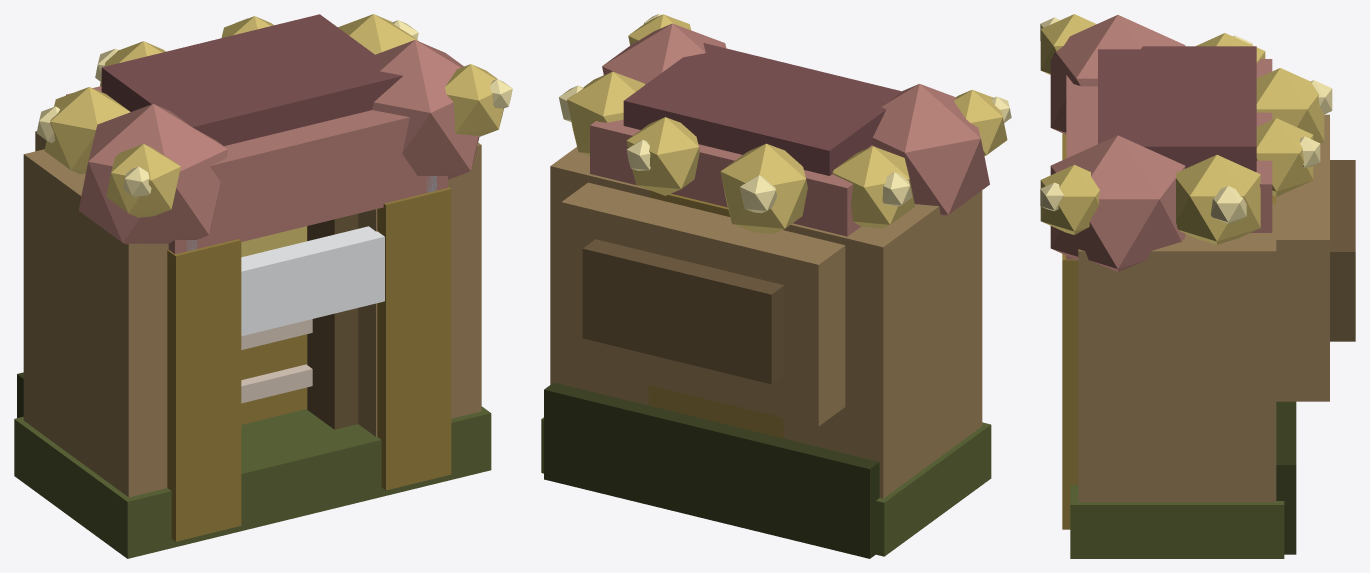
Rendered from inf_v2_hocker_upper_torso.fbx.
3 renders of one model, left to right at view 1: azimuth 30°, elevation 25°; view 2: azimuth 150°, elevation 25°; view 3: azimuth 270°, elevation 25°, orthographic. The views are drawn at different scales.
Visible parts, largest first — view 1: inf_v2_hocker_upper_torso; view 2: inf_v2_hocker_upper_torso; view 3: inf_v2_hocker_upper_torso.
Part boxes in pixels (bbox=[...]): inf_v2_hocker_upper_torso: bbox=[14, 14, 512, 558]; inf_v2_hocker_upper_torso: bbox=[541, 14, 1011, 558]; inf_v2_hocker_upper_torso: bbox=[1040, 14, 1355, 558].
Bounding box in the file's own units: 216 × 223 × 159.
